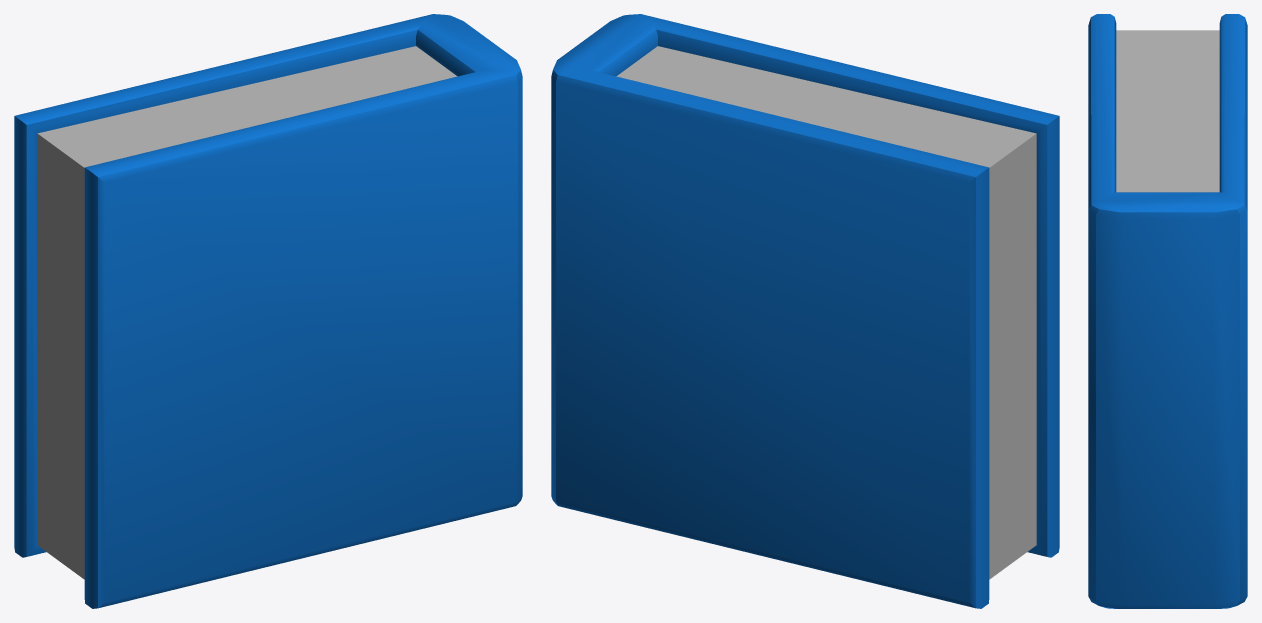
The model's file is book_6.glb.
The picture shows the model from 3 angles, left to right: view 1: azimuth 30°, elevation 25°; view 2: azimuth 150°, elevation 25°; view 3: azimuth 270°, elevation 25°; orthographic projection. The views are drawn at different scales.
Parts seen in each view (by area): view 1: Cube.011; view 2: Cube.011; view 3: Cube.011.
Part boxes in pixels (box(x1,y1,x2,y2)): Cube.011: box(14, 14, 522, 608); Cube.011: box(551, 14, 1059, 608); Cube.011: box(1088, 14, 1247, 608).
Bounding box in the file's own units: 0.1323 × 0.1257 × 0.0452.
1 material, 1 textured.
